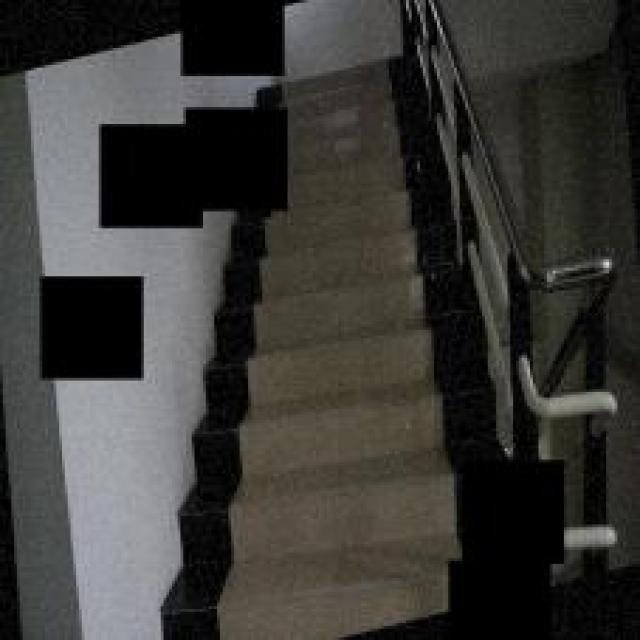upstair: (189, 254, 505, 465)
